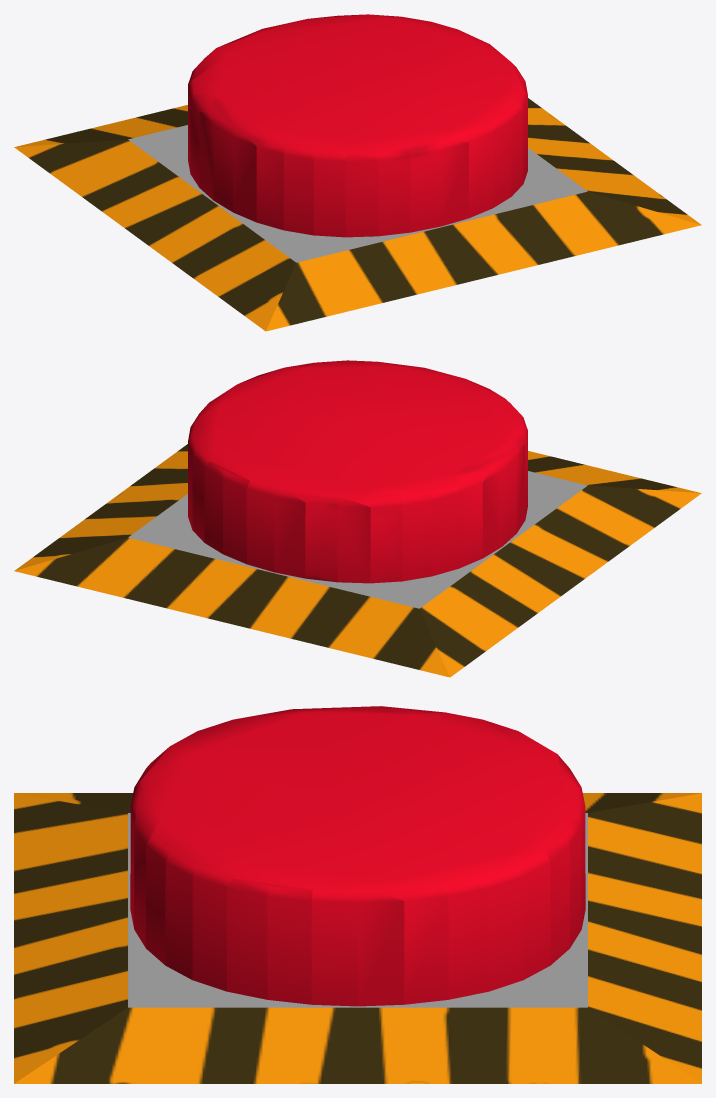
The model's file is EmergencyButton.fbx.
The picture shows the model from 3 angles, top to bottom: view 1: azimuth 30°, elevation 25°; view 2: azimuth 150°, elevation 25°; view 3: azimuth 270°, elevation 25°; orthographic projection. The views are drawn at different scales.
Visible parts, largest first — view 1: Button, Bottom; view 2: Button, Bottom; view 3: Button, Bottom.
Part boxes in pixels (left/top/right/bottom): Button: left=188, top=14, right=527, bottom=237; Bottom: left=14, top=98, right=701, bottom=331; Button: left=188, top=360, right=527, bottom=583; Bottom: left=14, top=444, right=701, bottom=677; Button: left=130, top=706, right=585, bottom=1006; Bottom: left=14, top=793, right=701, bottom=1083.
Size of the model in its own units: 200 by 46.28 by 200.
